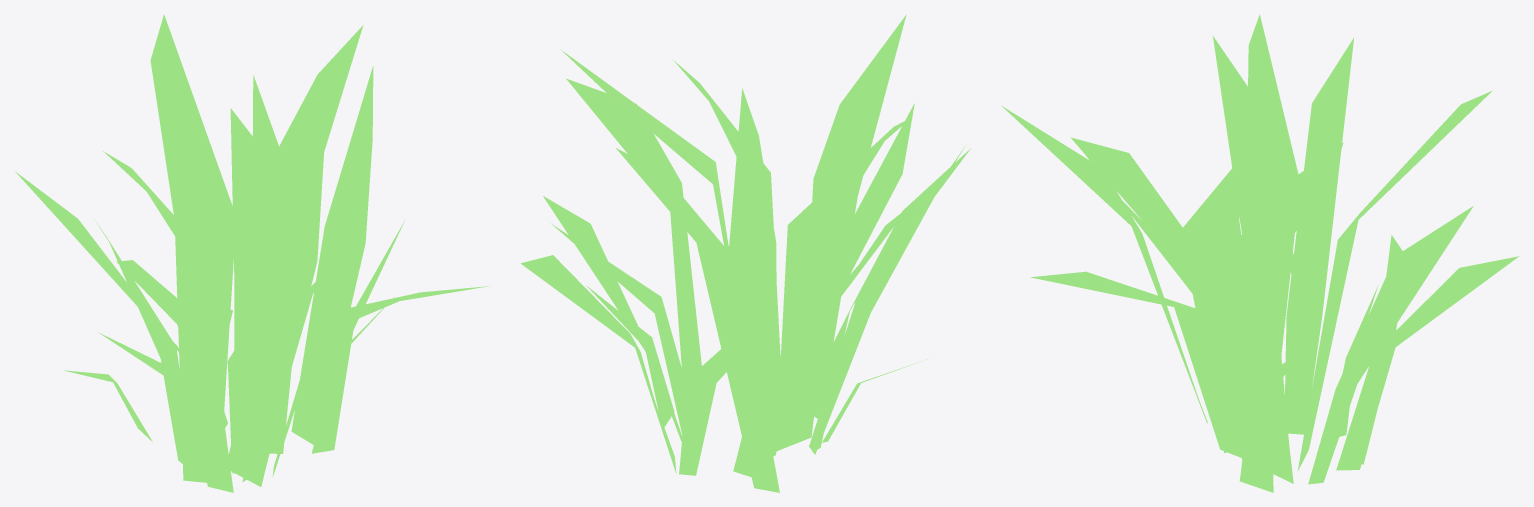
The model's file is Grass1fbx.fbx.
The picture shows the model from 3 angles, left to right: view 1: azimuth 30°, elevation 25°; view 2: azimuth 150°, elevation 25°; view 3: azimuth 270°, elevation 25°; orthographic projection. The views are drawn at different scales.
Parts seen in each view (by area): view 1: Grassback; view 2: Grassback; view 3: Grassback.
Boxes of the visible parts, left/top/right/bottom form: Grassback: left=15, top=14, right=490, bottom=492; Grassback: left=521, top=14, right=970, bottom=492; Grassback: left=1001, top=14, right=1519, bottom=492.
Size of the model in its own units: 35.16 by 36.55 by 41.56.
